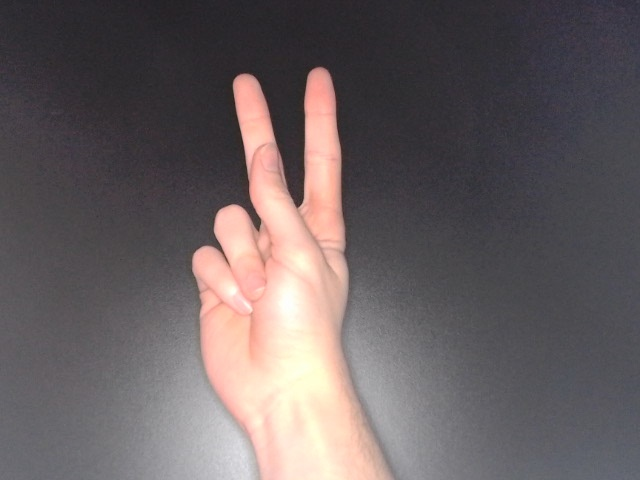k: (185, 61, 355, 452)
